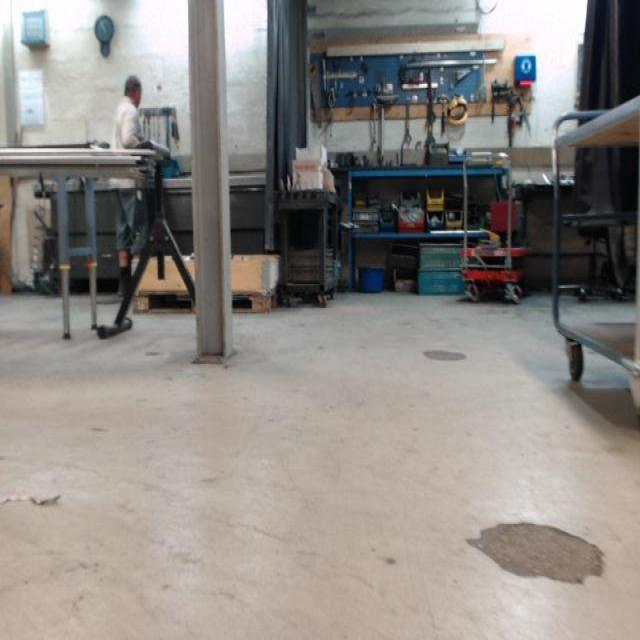pallet: (133, 290, 282, 315)
